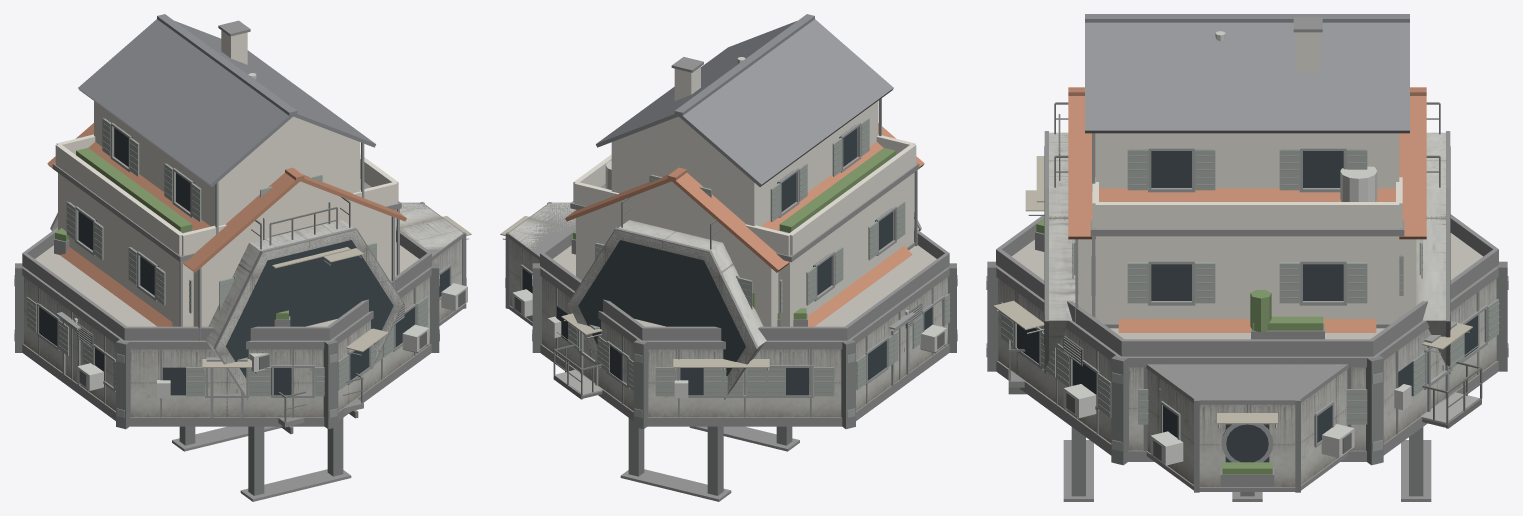
Rendered from panal_variantes.glb.
3 views of the same model, side by side, from view 1: azimuth 30°, elevation 25°; view 2: azimuth 150°, elevation 25°; view 3: azimuth 270°, elevation 25° (orthographic). The views are drawn at different scales.
Visible parts, largest first — view 1: casa_C, racimo_celda_A, casa_B, colmena_lejos, casa_A, racimo_celda_B, racimo_terraza, colmena_patas, colmena_tubo, racimo_lejos, espiga_capsula_lejos, espiga_capsula_A (+5 smaller); view 2: casa_C, racimo_celda_A, casa_B, colmena_lejos, racimo_celda_B, casa_A, racimo_terraza, colmena_patas, colmena_tubo, espiga_capsula_A, racimo_lejos, espiga_capsula_lejos (+4 smaller); view 3: casa_C, casa_B, racimo_celda_A, espiga_capsula_A, racimo_terraza, casa_A, colmena_lejos, racimo_celda_B, colmena_tubo, espiga_capsula_lejos, colmena_patas, espiga_capsula_B (+5 smaller).
Part boxes in pixels (x1,y1,x2,y2): casa_C: [78, 14, 375, 234]; racimo_celda_A: [14, 263, 439, 429]; casa_B: [52, 134, 401, 326]; colmena_lejos: [53, 219, 403, 394]; casa_A: [47, 123, 406, 340]; racimo_celda_B: [24, 277, 427, 417]; racimo_terraza: [22, 227, 431, 340]; colmena_patas: [172, 418, 351, 501]; colmena_tubo: [50, 213, 403, 399]; racimo_lejos: [39, 307, 414, 395]; espiga_capsula_lejos: [396, 203, 462, 317]; espiga_capsula_A: [401, 202, 467, 325]; casa_C: [596, 14, 893, 226]; racimo_celda_A: [532, 263, 957, 429]; casa_B: [570, 134, 919, 326]; colmena_lejos: [568, 219, 918, 391]; racimo_celda_B: [553, 277, 947, 417]; casa_A: [565, 123, 924, 326]; racimo_terraza: [540, 227, 949, 340]; colmena_patas: [620, 418, 799, 501]; colmena_tubo: [568, 213, 921, 399]; espiga_capsula_A: [505, 202, 575, 325]; racimo_lejos: [557, 306, 932, 395]; espiga_capsula_lejos: [509, 203, 575, 319]; casa_C: [1085, 14, 1409, 192]; casa_B: [1058, 114, 1404, 328]; racimo_celda_A: [986, 261, 1508, 465]; espiga_capsula_A: [1143, 364, 1351, 492]; racimo_terraza: [996, 214, 1498, 356]; casa_A: [1068, 87, 1426, 323]; colmena_lejos: [1044, 131, 1450, 373]; racimo_celda_B: [993, 278, 1499, 450]; colmena_tubo: [1045, 131, 1449, 373]; espiga_capsula_lejos: [1147, 364, 1347, 487]; colmena_patas: [1063, 427, 1431, 501]; espiga_capsula_B: [1160, 401, 1354, 486].
Bounding box in the file's own units: 16.9 × 15.33 × 15.48.
Materials: 19 (1 with a texture image).
